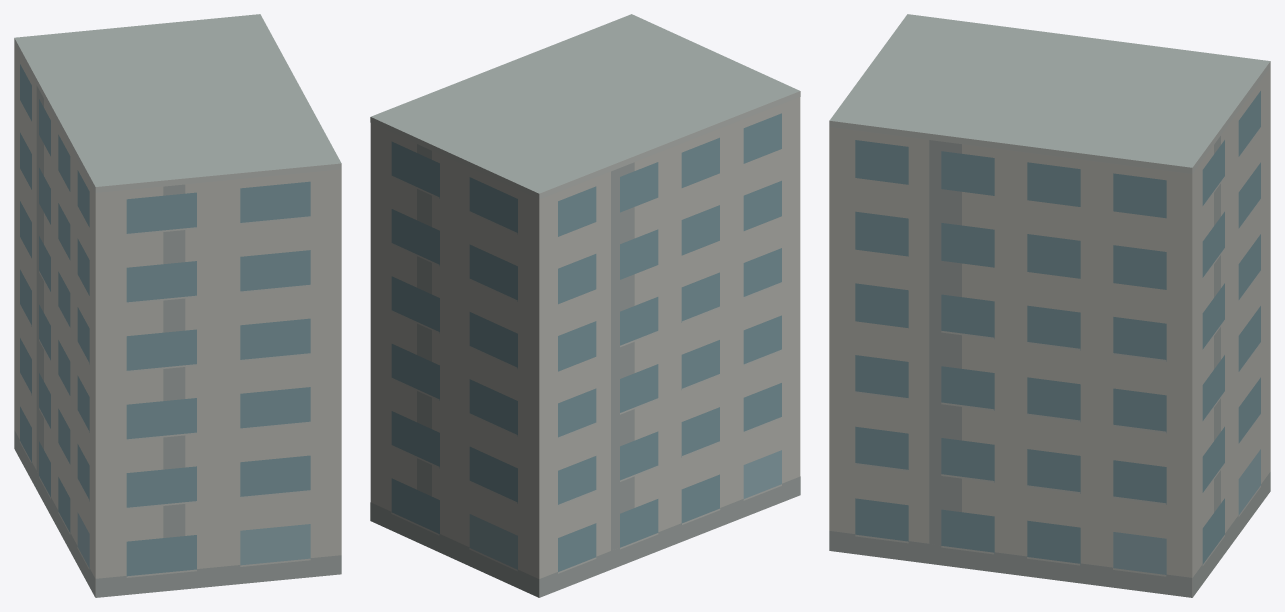
File: survey-upis-32872069.glb
The picture shows the model from 3 angles, left to right: view 1: azimuth 30°, elevation 25°; view 2: azimuth 150°, elevation 25°; view 3: azimuth 270°, elevation 25°; orthographic projection. The views are drawn at different scales.
Visible parts, largest first — view 1: survey-upis-32872069.tmp; view 2: survey-upis-32872069.tmp; view 3: survey-upis-32872069.tmp.
Boxes of the visible parts, left/top/right/bottom form: survey-upis-32872069.tmp: left=14, top=14, right=341, bottom=597; survey-upis-32872069.tmp: left=370, top=14, right=800, bottom=597; survey-upis-32872069.tmp: left=829, top=14, right=1270, bottom=597.
Bounding box in the file's own units: 12.74 × 16.6 × 15.44.
